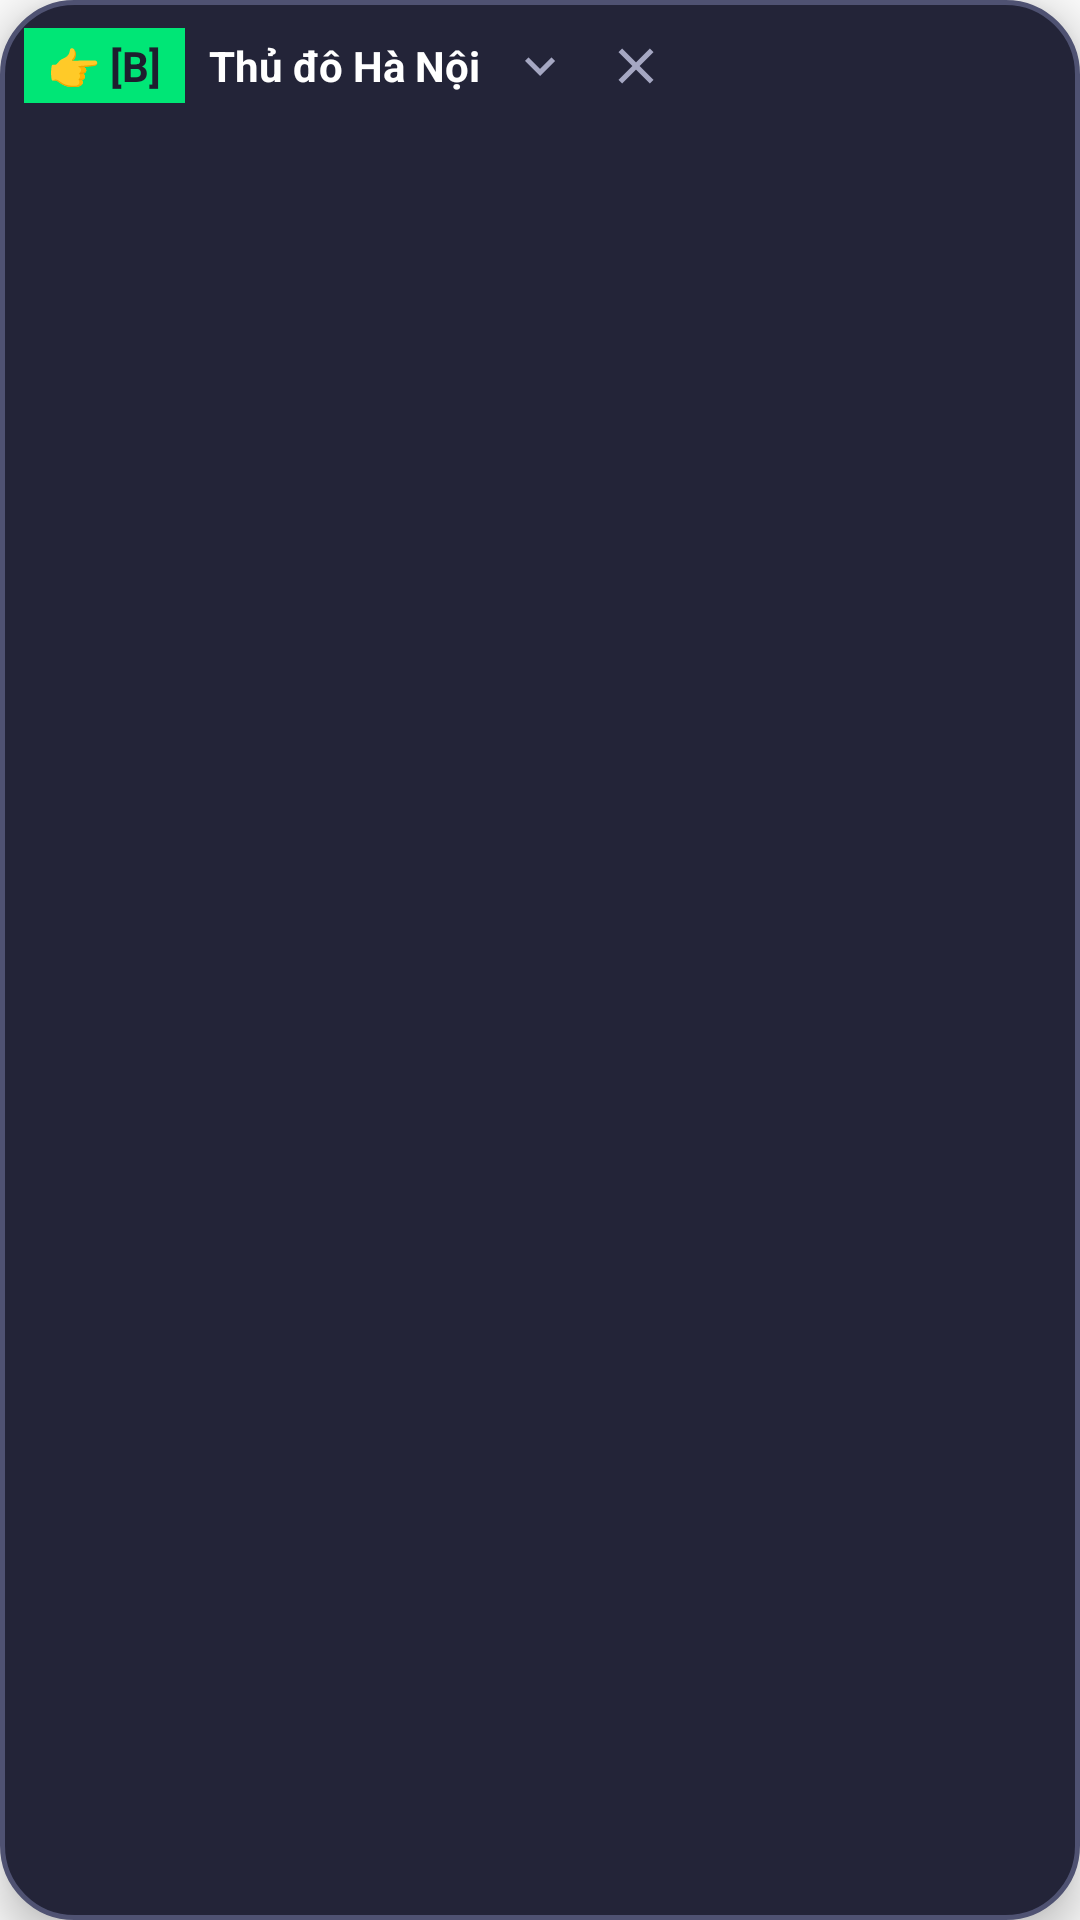

Locate icon controls on the screen. Image size 1080px×1920px, boxes as {"x1": x1, "y1": y1, "x2": x2, "y2": y2}.
Đóng: {"x1": 618, "y1": 48, "x2": 654, "y2": 84}
